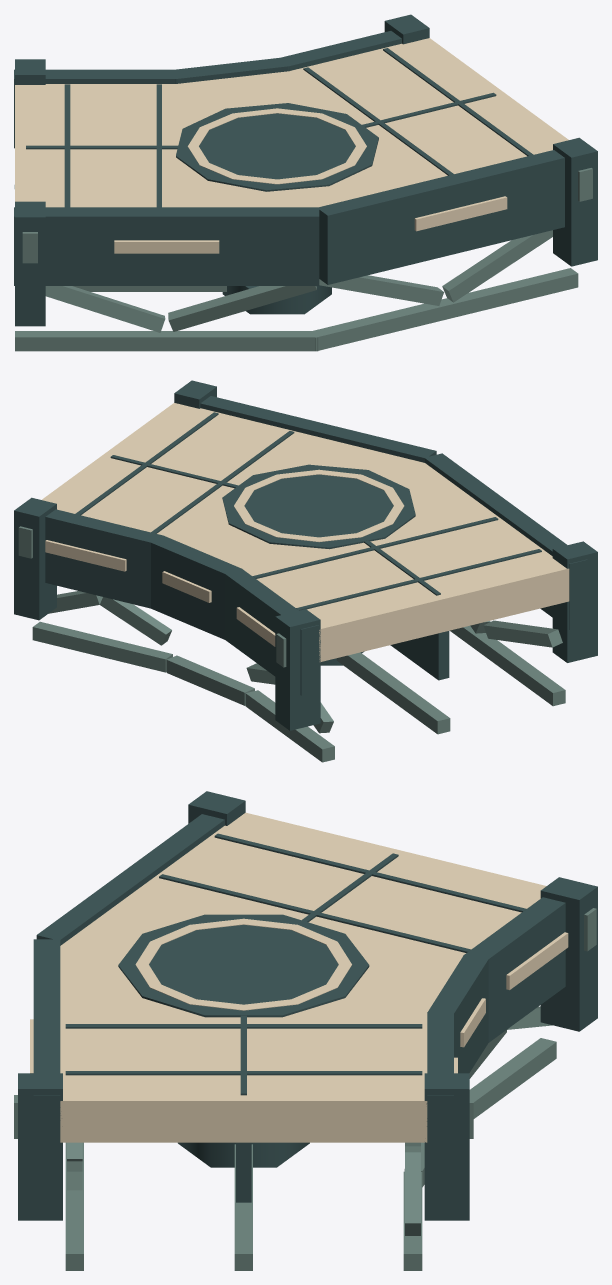
Rendered from Bend_150_lab2.glb.
3 views of the same model, one above another, from view 1: azimuth 30°, elevation 25°; view 2: azimuth 150°, elevation 25°; view 3: azimuth 270°, elevation 25° (orthographic). The views are drawn at different scales.
Parts seen in each view (by area): view 1: Bend_150; view 2: Bend_150; view 3: Bend_150.
Boxes of the visible parts, bbox=[...] form: Bend_150: bbox=[14, 14, 597, 351]; Bend_150: bbox=[14, 380, 597, 762]; Bend_150: bbox=[14, 791, 597, 1270].
Size of the model in its own units: 5.34 by 1.58 by 4.42.
